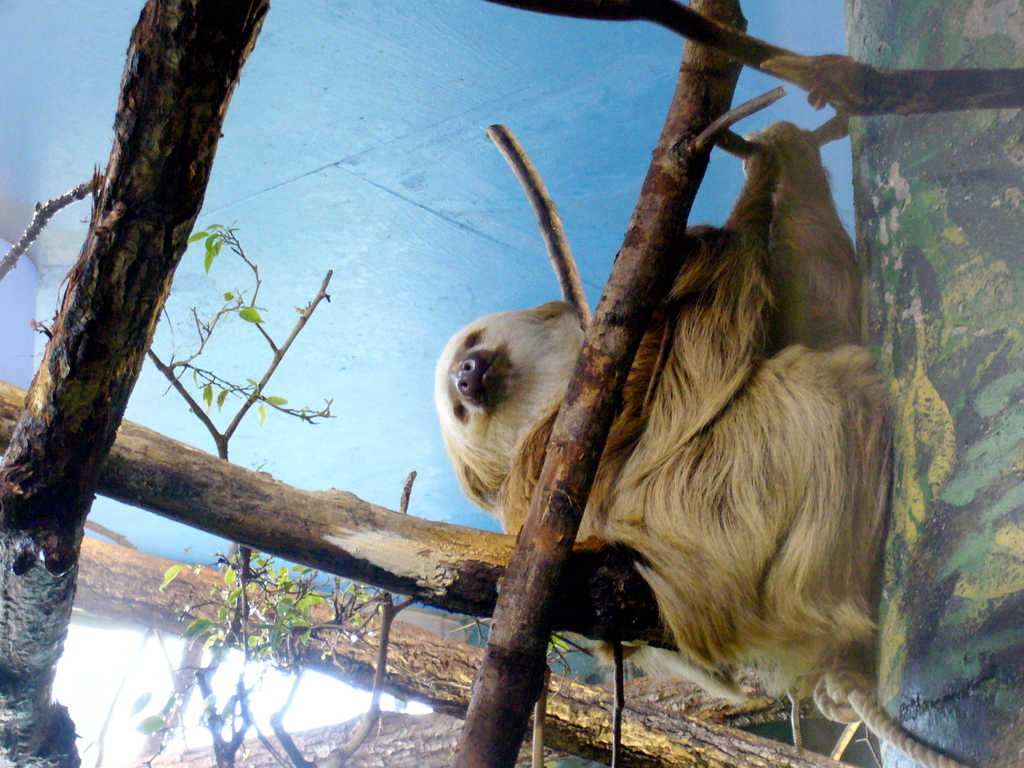Animal: (437, 120, 891, 705)
